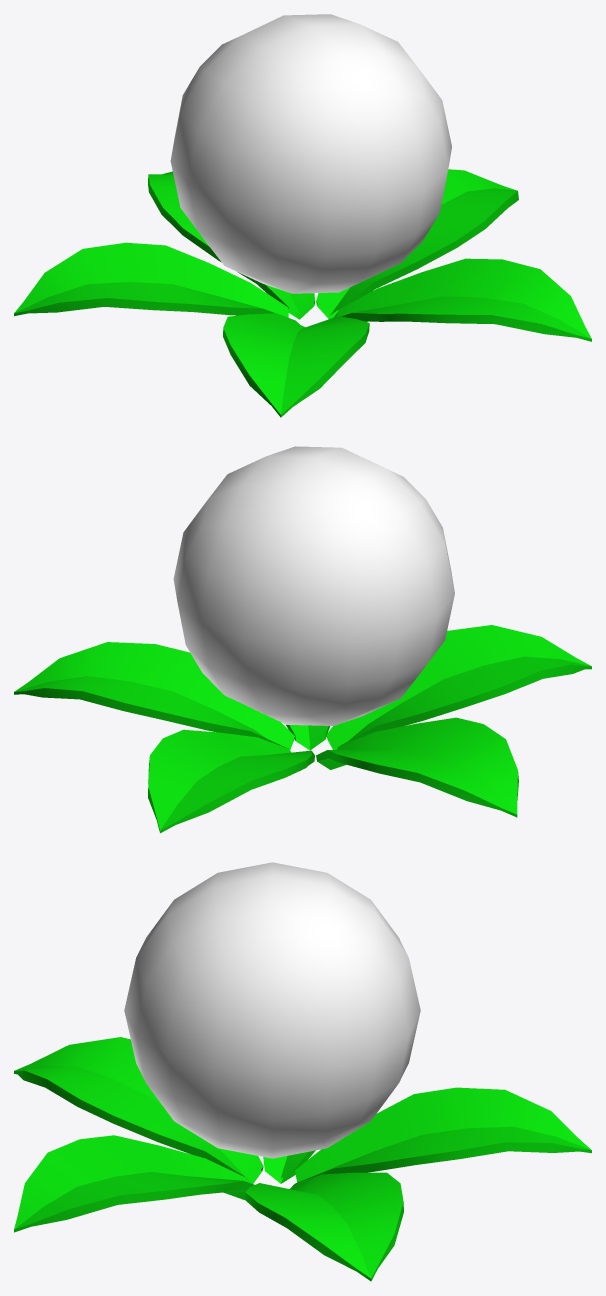
The model's file is m6bo_whiteflower_low.fbx.
3 renders of one model, top to bottom at view 1: azimuth 30°, elevation 25°; view 2: azimuth 150°, elevation 25°; view 3: azimuth 270°, elevation 25°, orthographic. The views are drawn at different scales.
Parts seen in each view (by area): view 1: Sphere_Low, Leaves_Low; view 2: Sphere_Low, Leaves_Low; view 3: Sphere_Low, Leaves_Low.
Boxes of the visible parts, <box> form: Sphere_Low: <box>170,14,451,293</box>; Leaves_Low: <box>14,169,591,417</box>; Sphere_Low: <box>173,446,454,725</box>; Leaves_Low: <box>14,625,591,833</box>; Sphere_Low: <box>124,862,420,1158</box>; Leaves_Low: <box>14,1037,591,1281</box>.
Bounding box in the file's own units: 505 × 292 × 480.
